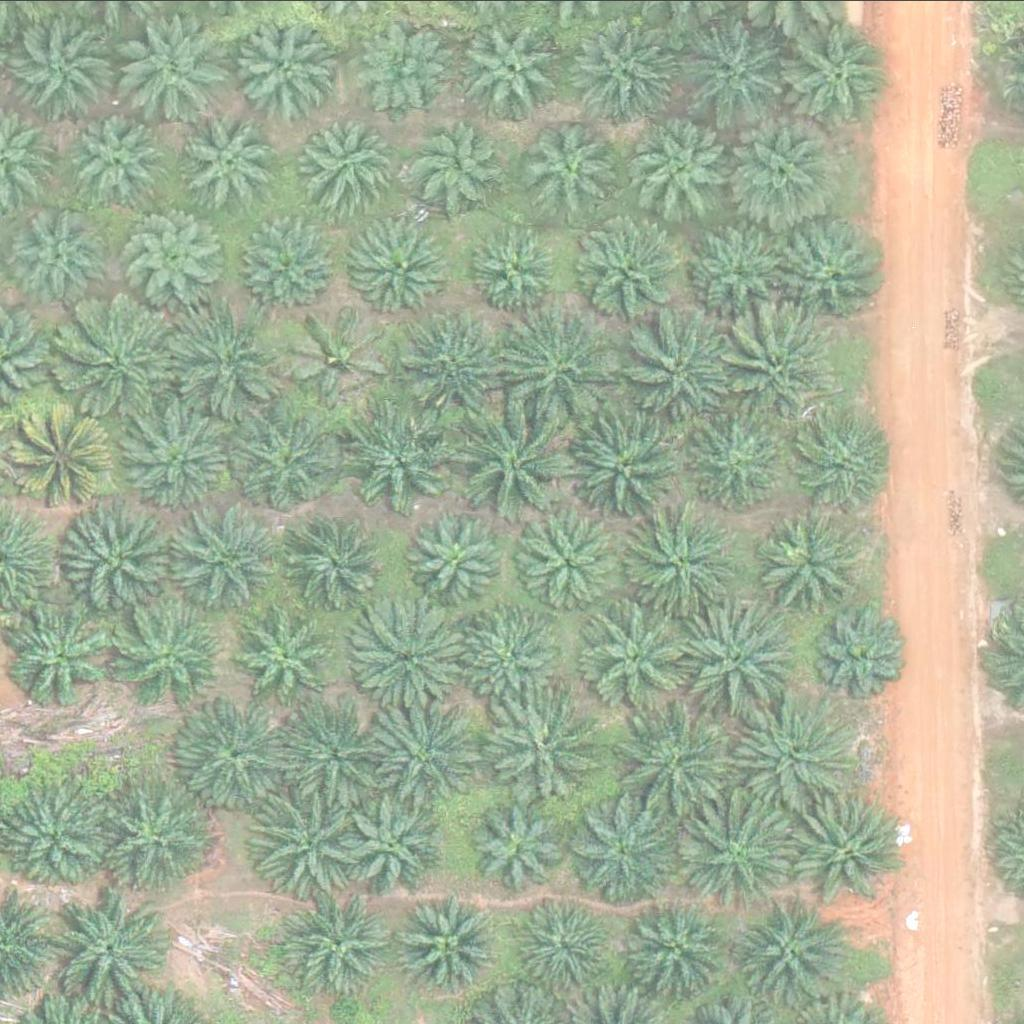Kelapa_Sawit: (566, 408, 680, 521), (350, 601, 464, 714), (366, 692, 480, 805), (743, 698, 857, 811), (683, 801, 797, 914), (736, 898, 850, 1011), (6, 9, 119, 122), (575, 15, 688, 128), (676, 15, 789, 128), (783, 19, 896, 132), (620, 314, 733, 427), (391, 311, 504, 424), (171, 307, 284, 420), (59, 303, 172, 416), (460, 409, 573, 522), (66, 500, 179, 613), (624, 506, 737, 619), (8, 598, 121, 711), (585, 596, 698, 709), (484, 687, 597, 800), (123, 11, 237, 123), (505, 312, 619, 424), (113, 596, 227, 708), (567, 795, 681, 907), (731, 111, 844, 223), (777, 217, 890, 329), (725, 312, 838, 424), (339, 404, 452, 516), (761, 505, 874, 617), (682, 595, 795, 707), (188, 695, 301, 807), (617, 706, 730, 818), (794, 790, 907, 902), (96, 784, 209, 896), (244, 784, 357, 896), (53, 896, 166, 1008), (239, 16, 340, 116), (468, 12, 569, 112), (181, 111, 282, 211), (301, 119, 402, 219), (401, 114, 502, 214), (633, 118, 734, 218), (236, 213, 337, 313), (352, 216, 453, 316), (578, 217, 679, 317), (125, 415, 226, 515), (237, 413, 338, 513), (690, 409, 791, 509), (799, 412, 900, 512), (182, 507, 283, 607), (522, 512, 623, 612), (237, 606, 338, 706), (472, 795, 573, 895), (342, 794, 443, 894), (351, 20, 451, 120), (131, 210, 231, 310), (680, 216, 780, 316), (287, 304, 387, 404), (19, 409, 119, 509), (296, 515, 396, 615), (469, 604, 569, 704), (285, 704, 385, 804), (293, 893, 393, 993), (402, 892, 502, 992), (518, 892, 618, 992), (634, 896, 734, 996), (416, 514, 505, 602), (477, 226, 565, 314), (76, 112, 164, 199), (529, 123, 617, 210), (21, 210, 109, 297), (823, 612, 911, 699)
